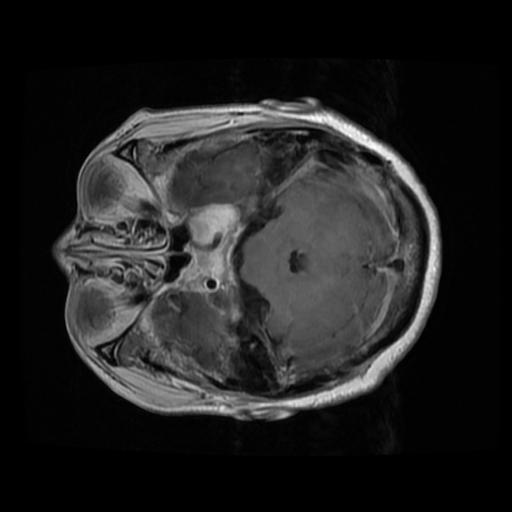meningioma: (186, 201, 240, 246)
